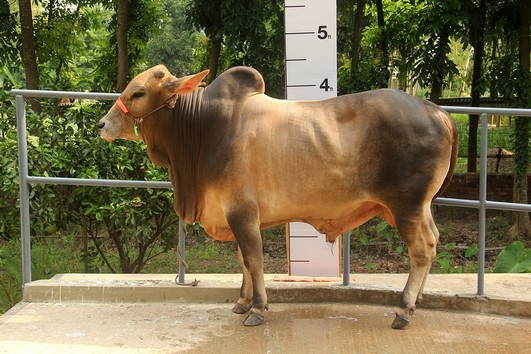cow: (89, 56, 465, 337)
